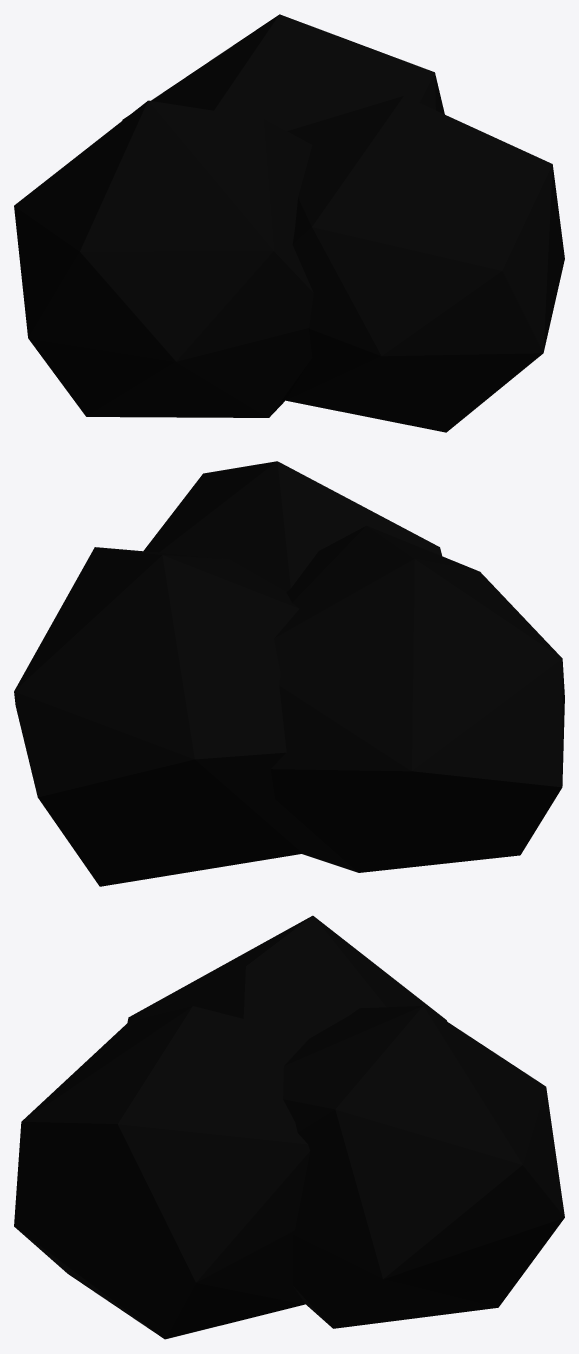
File: bushes_small.fbx
3 views of the same model, one above another, from view 1: azimuth 30°, elevation 25°; view 2: azimuth 150°, elevation 25°; view 3: azimuth 270°, elevation 25° (orthographic). The views are drawn at different scales.
Visible parts, largest first — view 1: bushes; view 2: bushes; view 3: bushes.
Part boxes in pixels (left/top/right/bottom): bushes: left=14, top=14, right=564, bottom=432; bushes: left=14, top=461, right=564, bottom=886; bushes: left=14, top=915, right=564, bottom=1339.
Bounding box in the file's own units: 50.69 × 29.88 × 50.68.
